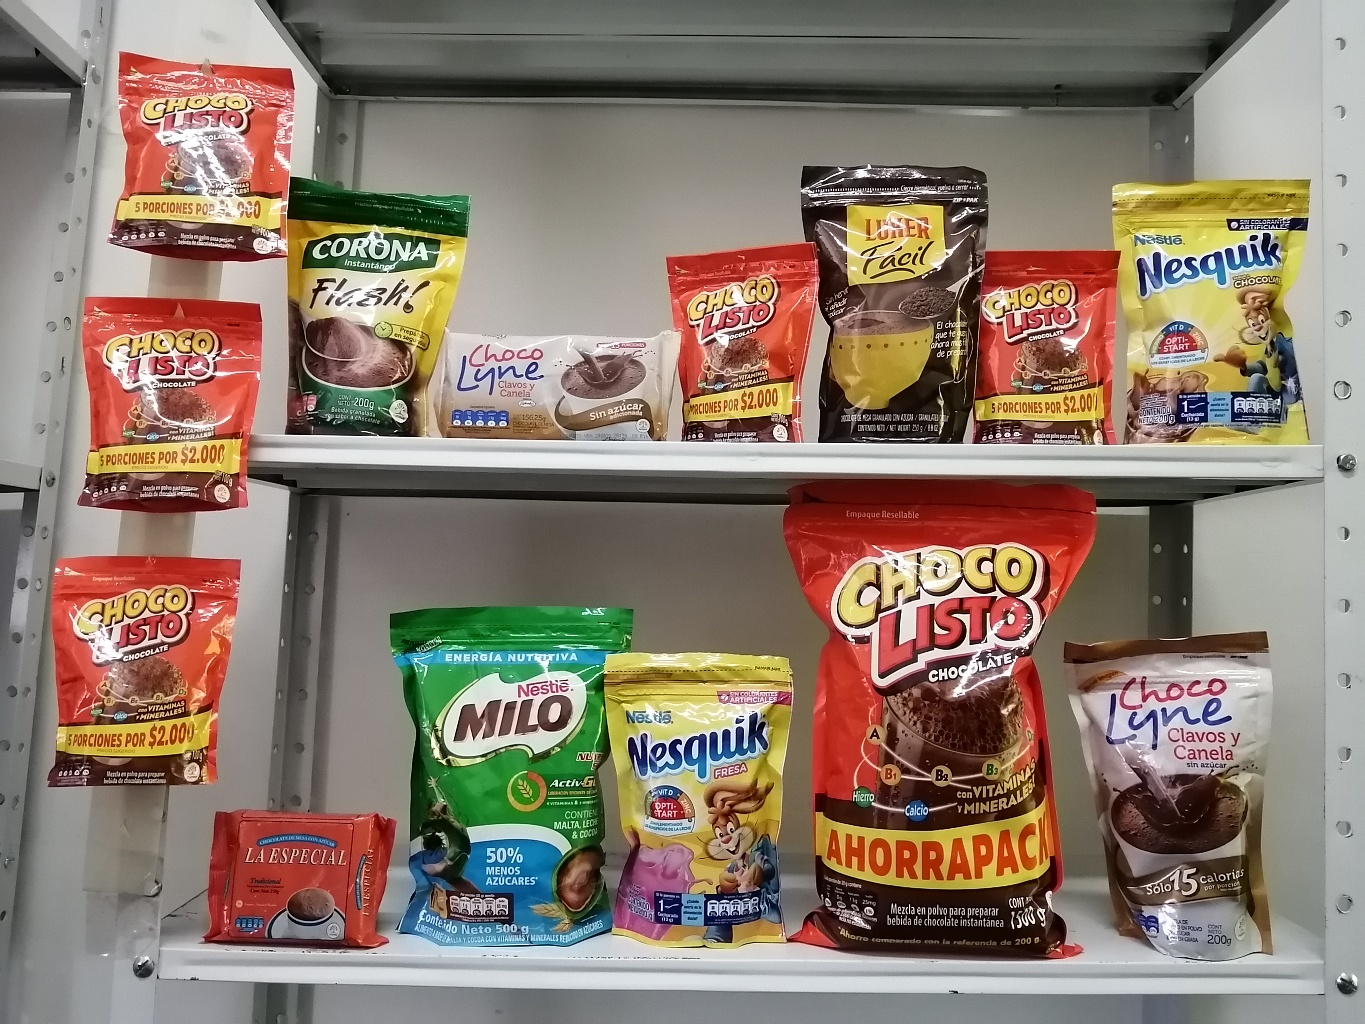COL0170103DYP1,500: (763, 482, 1096, 964)
COL0170205DYP50000: (380, 607, 632, 939)
COL0170303DYP20000: (1101, 159, 1317, 456)
COL0170305DYP20000: (603, 655, 796, 952)
